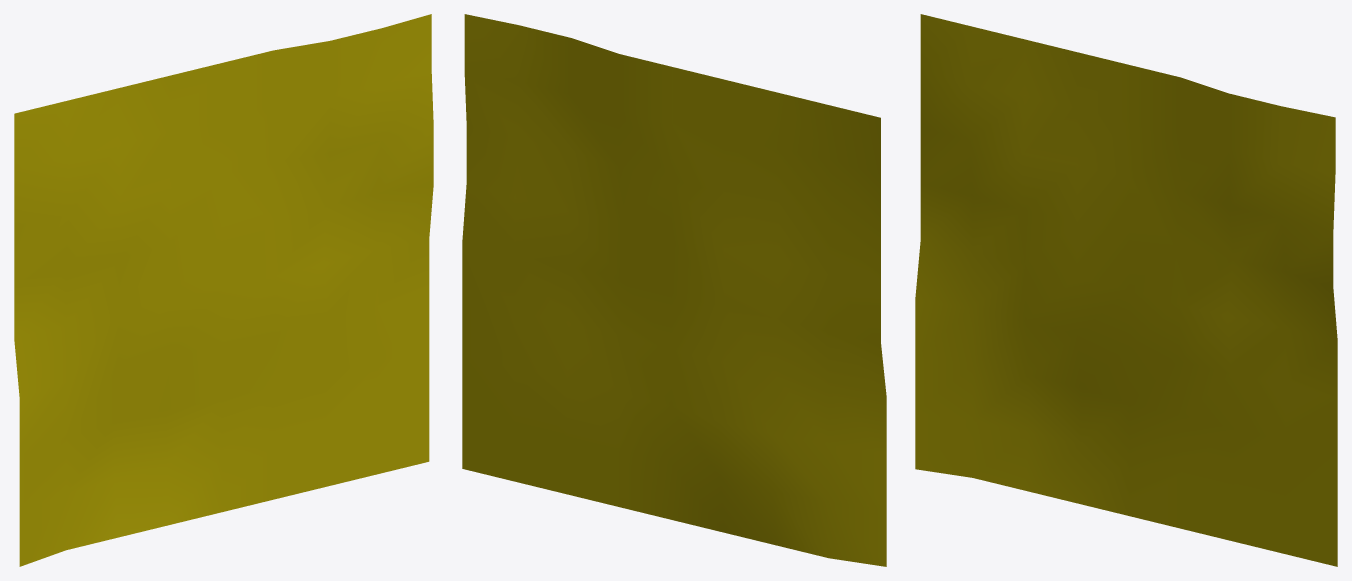
Rendered from office_prop_poster_02.FBX.
The picture shows the model from 3 angles, left to right: view 1: azimuth 30°, elevation 25°; view 2: azimuth 150°, elevation 25°; view 3: azimuth 330°, elevation 25°; orthographic projection.
Parts seen in each view (by area): view 1: office_prop_poster_02; view 2: office_prop_poster_02; view 3: office_prop_poster_02.
Part boxes in pixels (<box>): office_prop_poster_02: <box>14,14,433,566</box>; office_prop_poster_02: <box>462,14,886,566</box>; office_prop_poster_02: <box>915,14,1337,566</box>.
Size of the model in its own units: 89.41 by 3.34 by 92.45.
